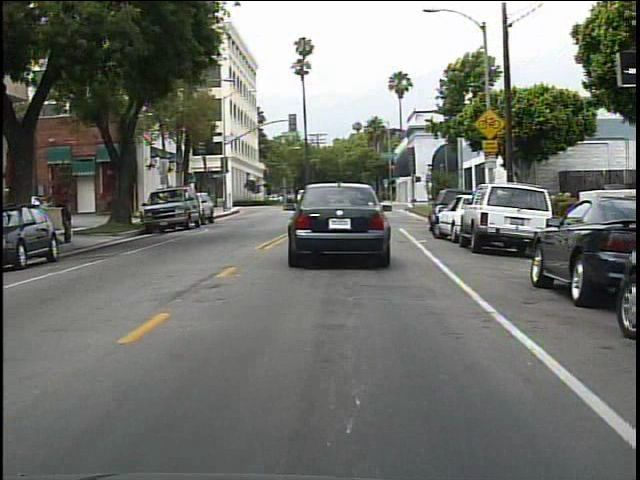person: (62, 196, 80, 247)
